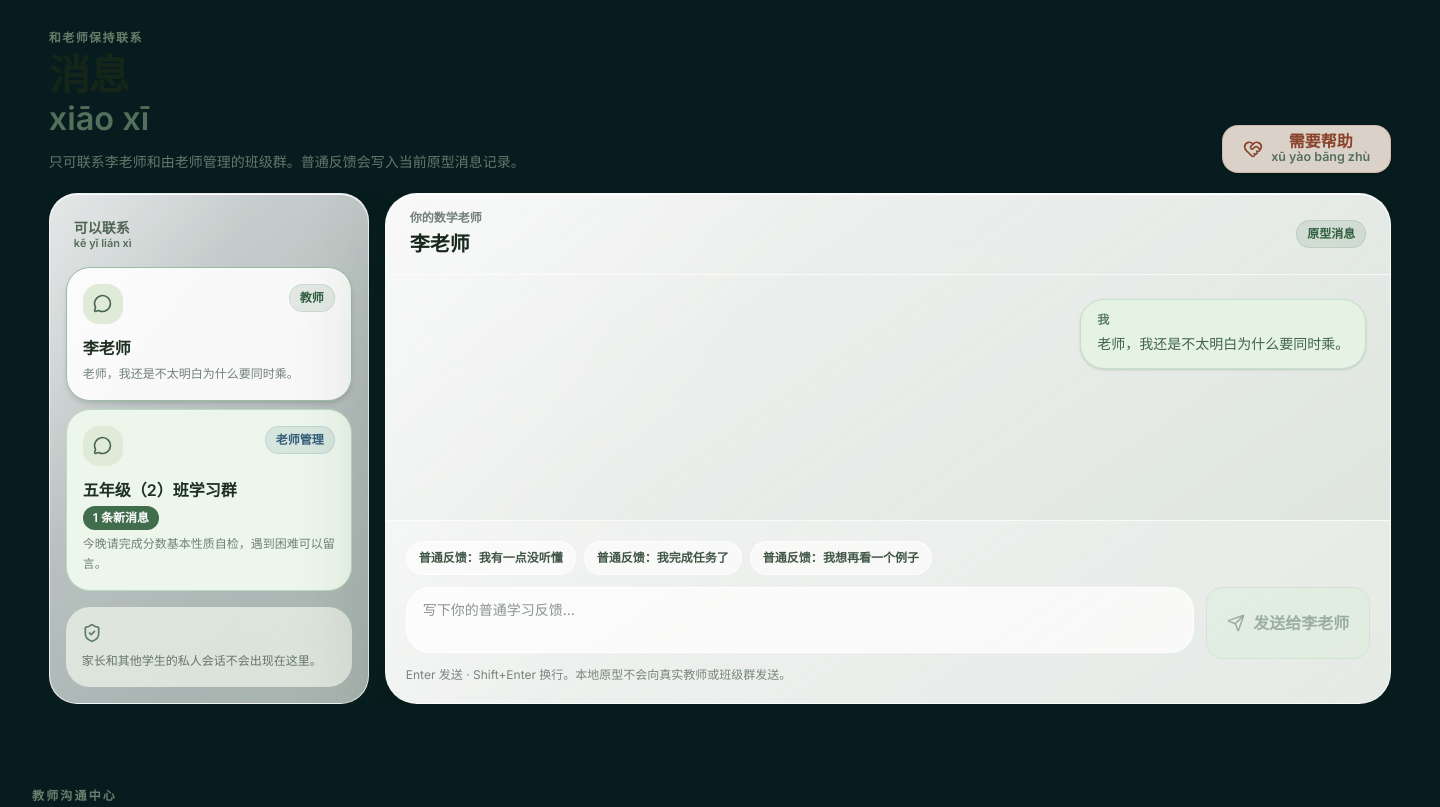
Test: MessagesPage › shows a student message under the student's name in the teacher conversation
Type "老师你好，这是学生发出的消息" into the text box named "给李老师留言".
click(800, 620); type("老师你好，这是学生发出的消息")  # box [406,587,1194,653]
Then press Enter
(page scrolled)
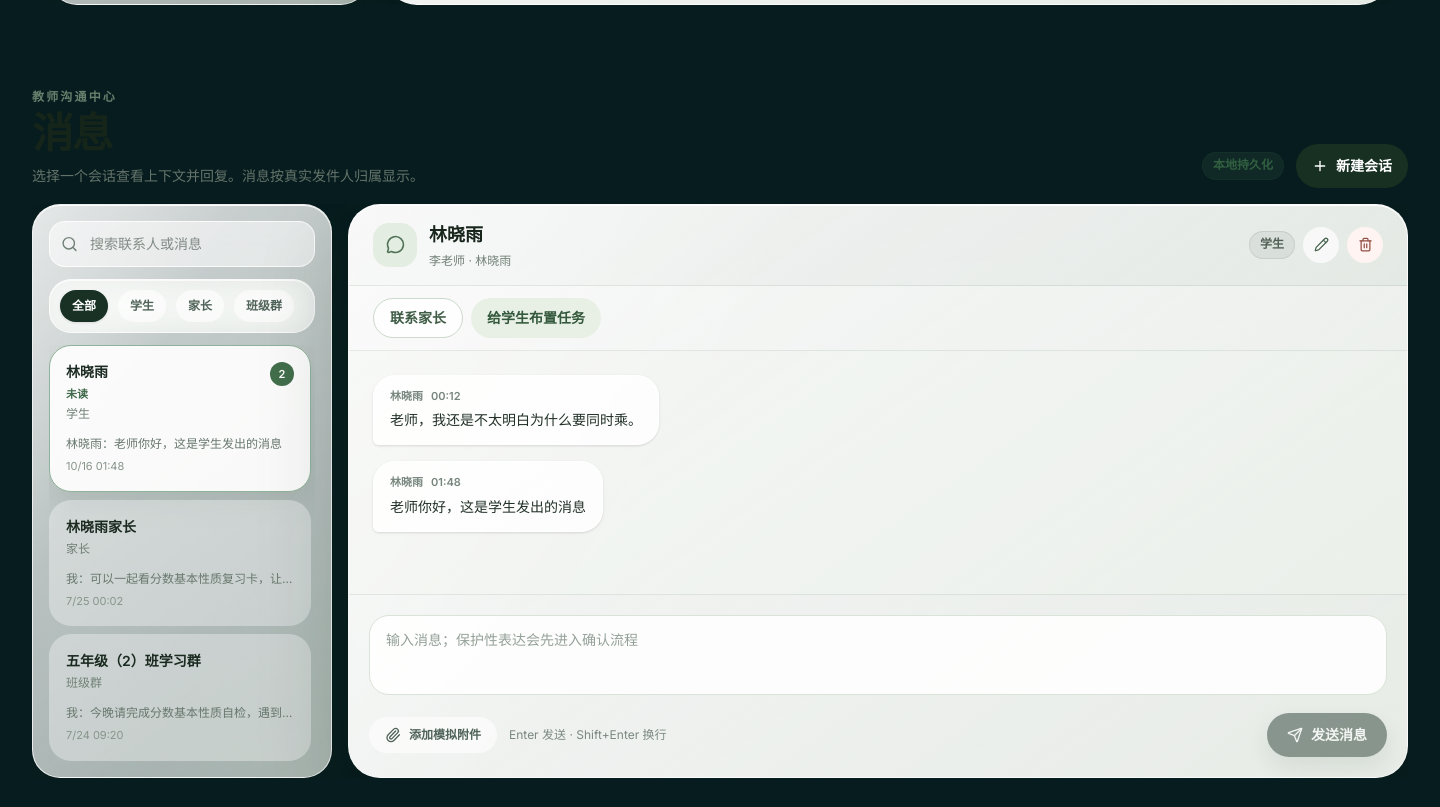
Expected: the text "老师你好，这是学生发出的消息" does not show "李老师", [373,461,603,532]
Result: the text "老师你好，这是学生发出的消息" shows "林晓雨" at [390,475,423,489]
